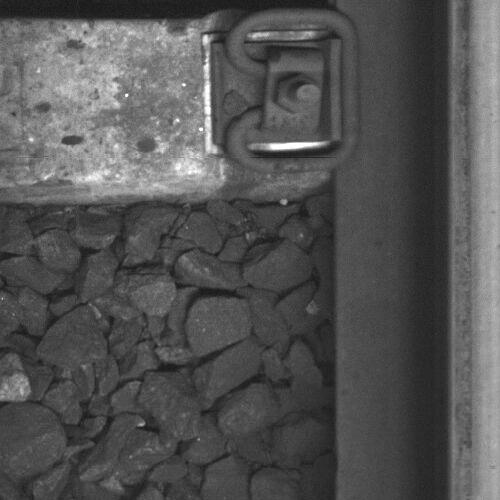jbr_bracket: (257, 42, 323, 133)
rail: (450, 1, 500, 500)
spring: (221, 8, 363, 174)
tie_concr: (1, 14, 335, 175)
